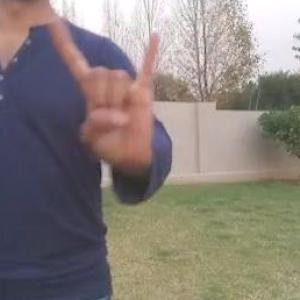takeoff-hand: (48, 15, 165, 165)
